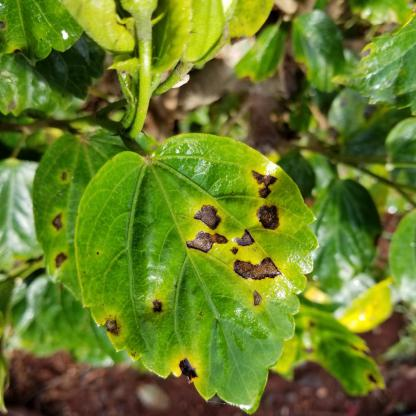tomato leaf bacterial spot: (78, 132, 326, 404)
